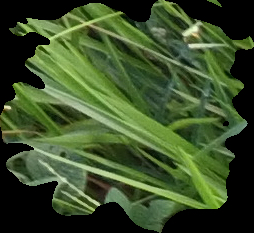grass: (1, 1, 253, 232)
